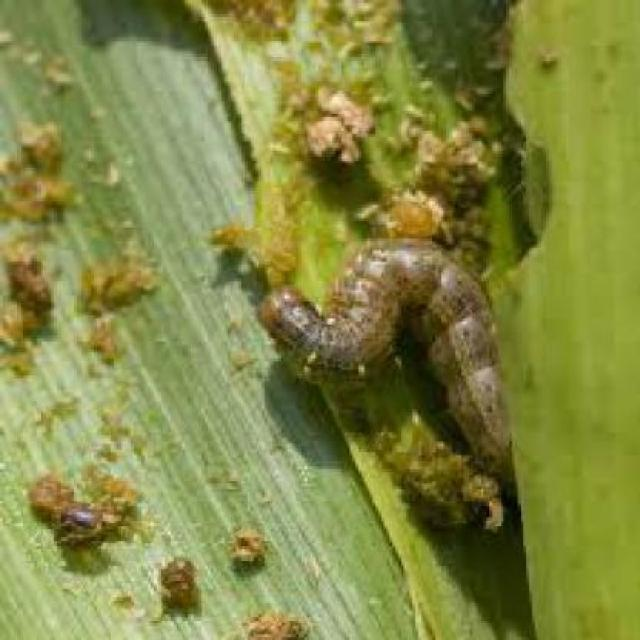Plaga: (246, 220, 523, 494)
